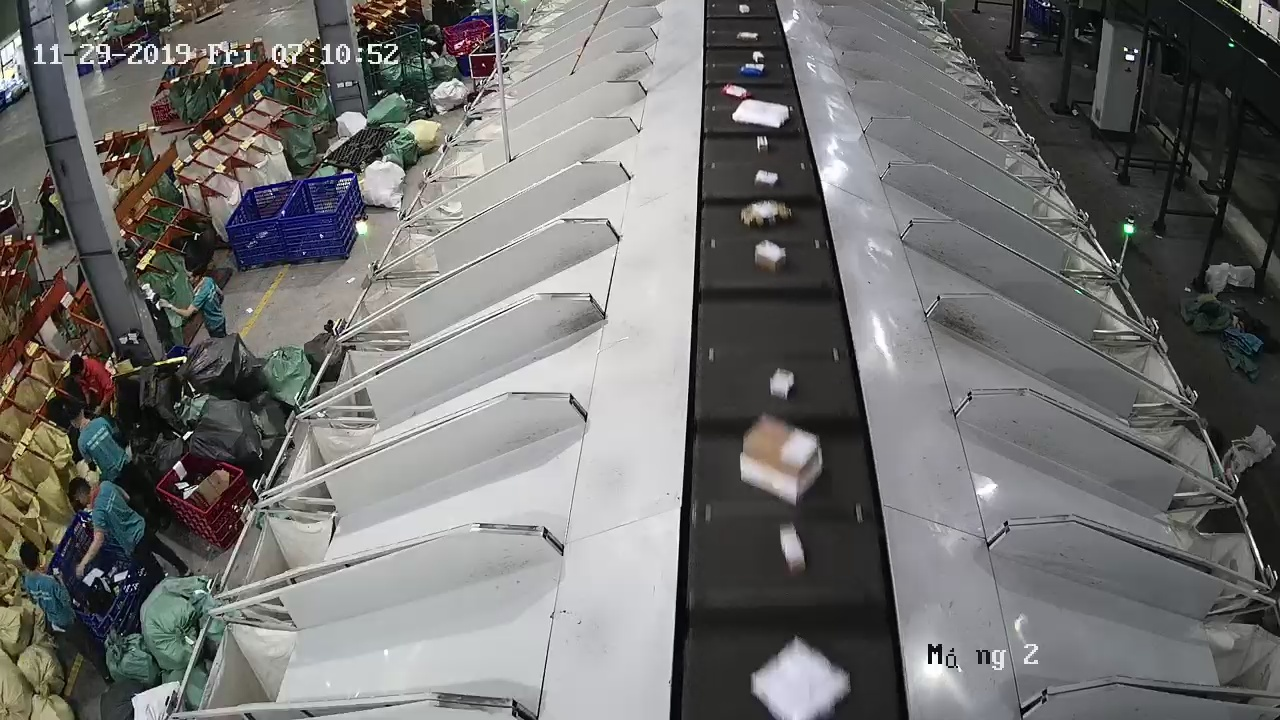parcel: (739, 417, 823, 507), (741, 200, 791, 229), (780, 530, 807, 573), (755, 240, 786, 274), (769, 367, 794, 400), (754, 169, 778, 188), (756, 135, 769, 153)
